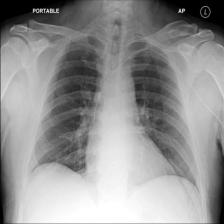normal: (25, 30, 202, 192)
